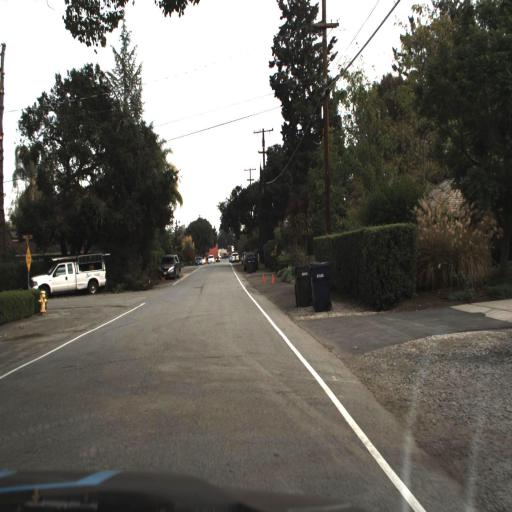car: (27, 255, 109, 300), (161, 252, 180, 277)
